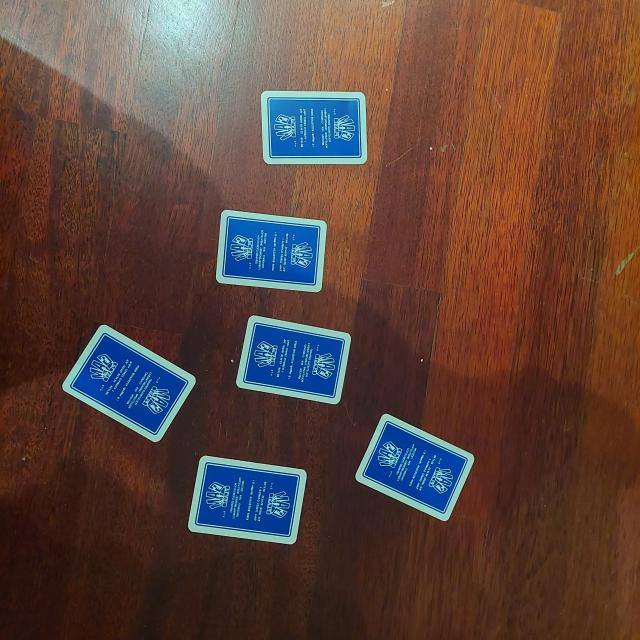card: (61, 324, 197, 442), (356, 412, 478, 523), (187, 456, 309, 546), (235, 315, 354, 405), (214, 208, 328, 294), (260, 89, 367, 167)
